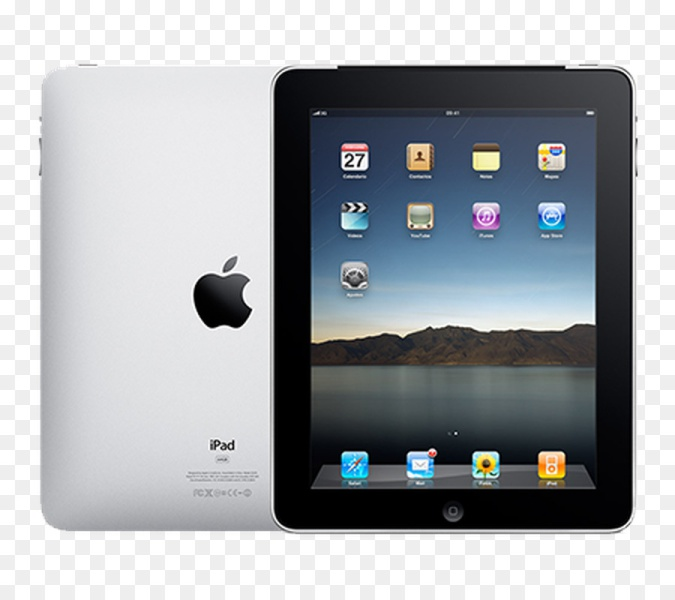apple: (188, 247, 259, 332)
